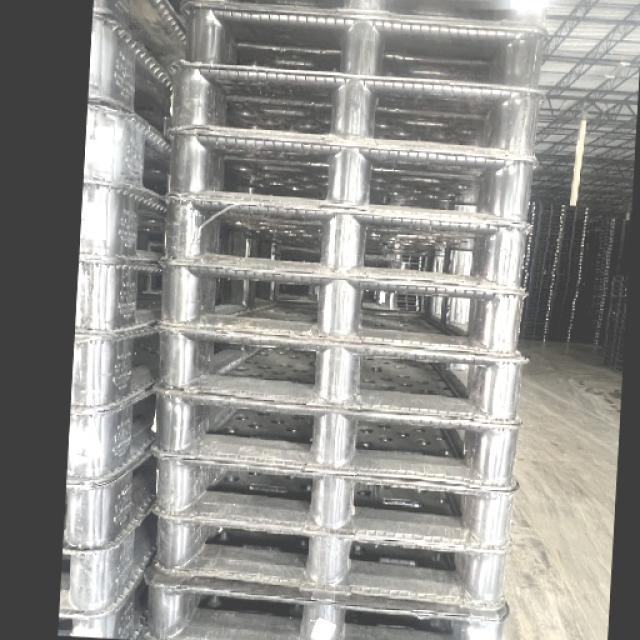igps: (146, 262, 537, 364), (144, 509, 514, 616), (158, 64, 552, 164), (149, 325, 534, 426), (152, 194, 540, 294), (145, 387, 526, 488), (143, 450, 524, 550), (157, 130, 545, 226), (169, 0, 554, 96), (138, 560, 514, 640), (54, 485, 167, 624), (84, 2, 178, 161), (57, 427, 159, 562), (170, 0, 555, 33), (75, 90, 175, 217), (63, 371, 164, 493), (53, 540, 167, 640), (66, 312, 166, 424), (72, 167, 173, 277), (85, 0, 191, 95), (72, 246, 169, 348), (611, 274, 629, 282), (610, 280, 630, 287), (608, 295, 628, 302), (610, 285, 629, 292), (610, 291, 628, 297)
